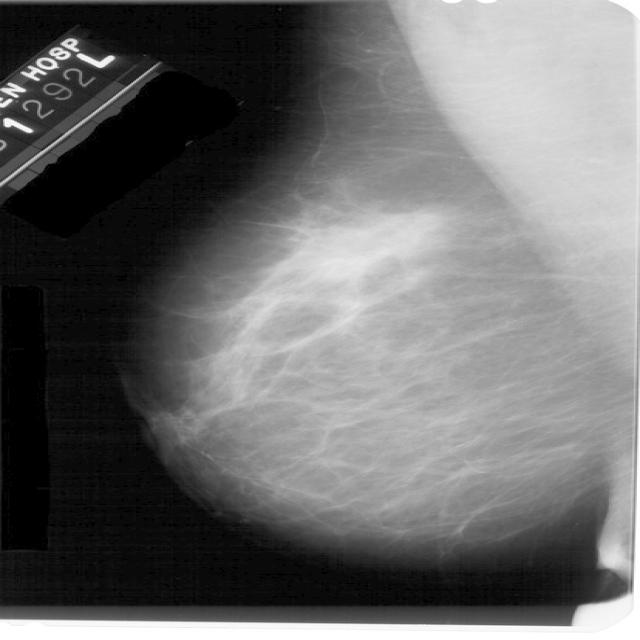tumour: (267, 217, 448, 290)
